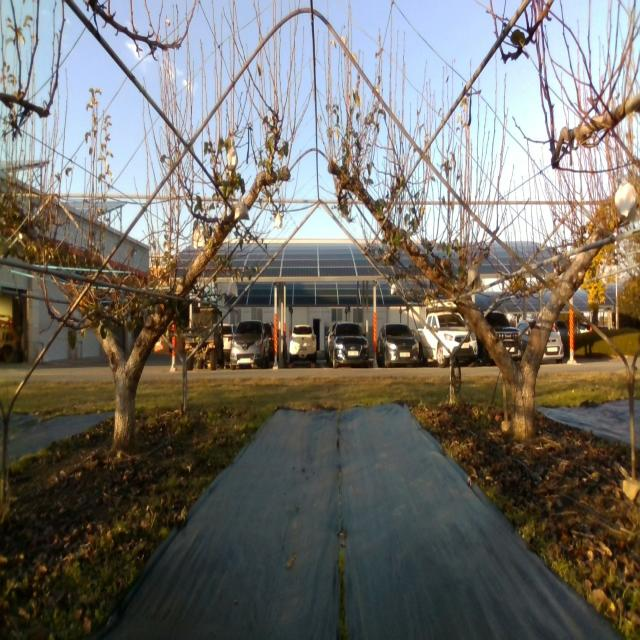pearbags: (614, 182, 636, 220), (234, 200, 249, 222), (193, 224, 205, 249), (227, 147, 239, 171), (468, 267, 480, 289)
